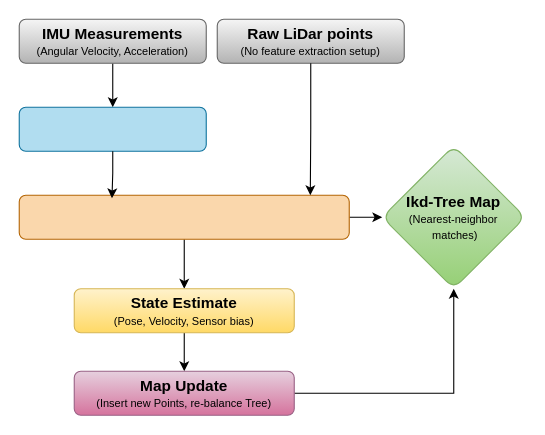
This 545x435 diagram has some shape labels left out. Here are the shapes that lost their labels. From the top down, the centre of each, then its label:
At [112,128]: "Forward Porpagation (IMU-Driven State Prediction)".
At [183,216]: "Iterated Kalman Filter Update (Scan-to-Map Point registration)".
